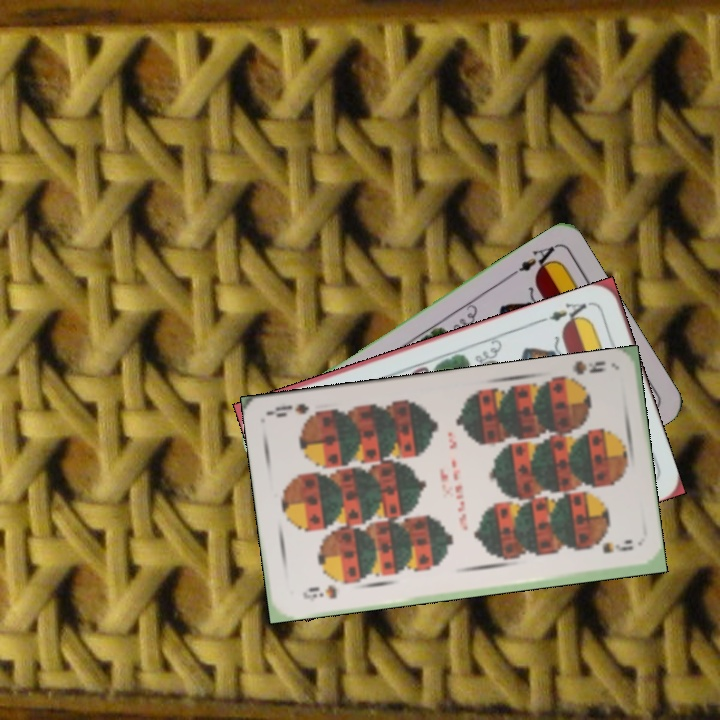EA: (506, 241, 560, 280), (545, 298, 594, 329)
S9: (555, 356, 609, 389), (298, 581, 340, 605)
